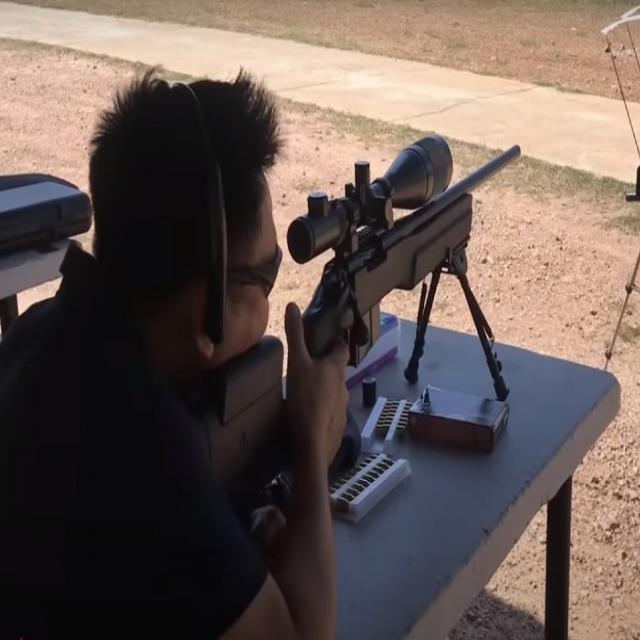rifle: (160, 126, 537, 502)
